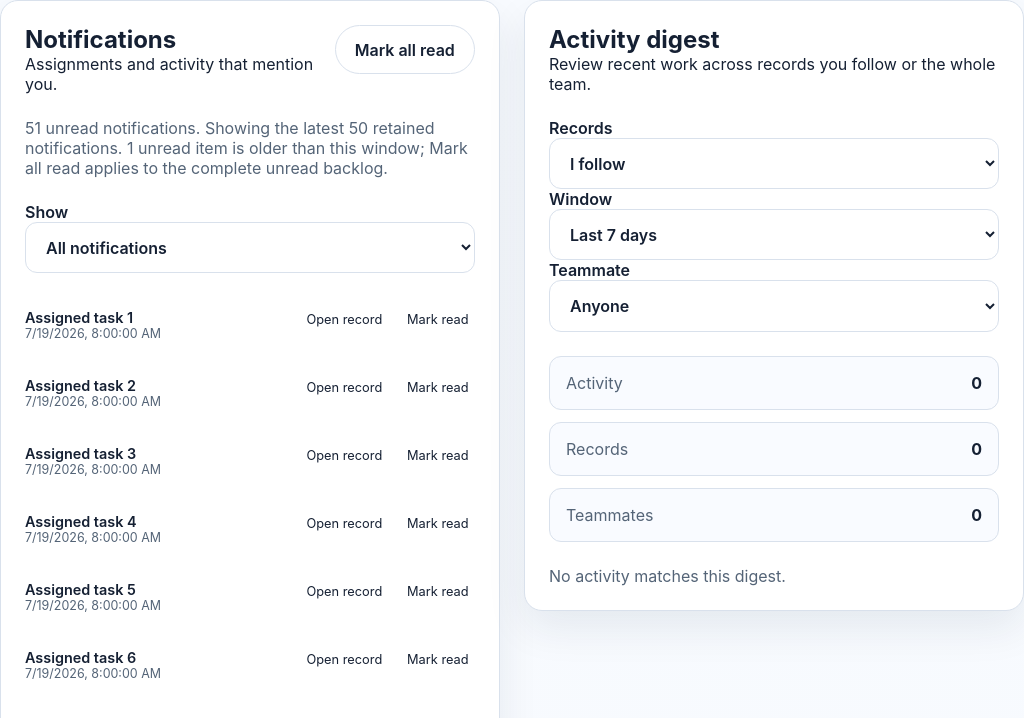
Test: notifications collaboration route › discloses the fixed latest window and marks the complete unread backlog
The width and height of the screenshot is (1024, 718).
Expected: the text "51 unread notifications" shows "Showing the latest 50 retained notifications.", [25,118,434,158]
Expected: the text "1 unread item is older than this window" is shown, [25,138,468,178]
Click the button "Mark all read".
click(405, 50)  # box [334,25,475,74]
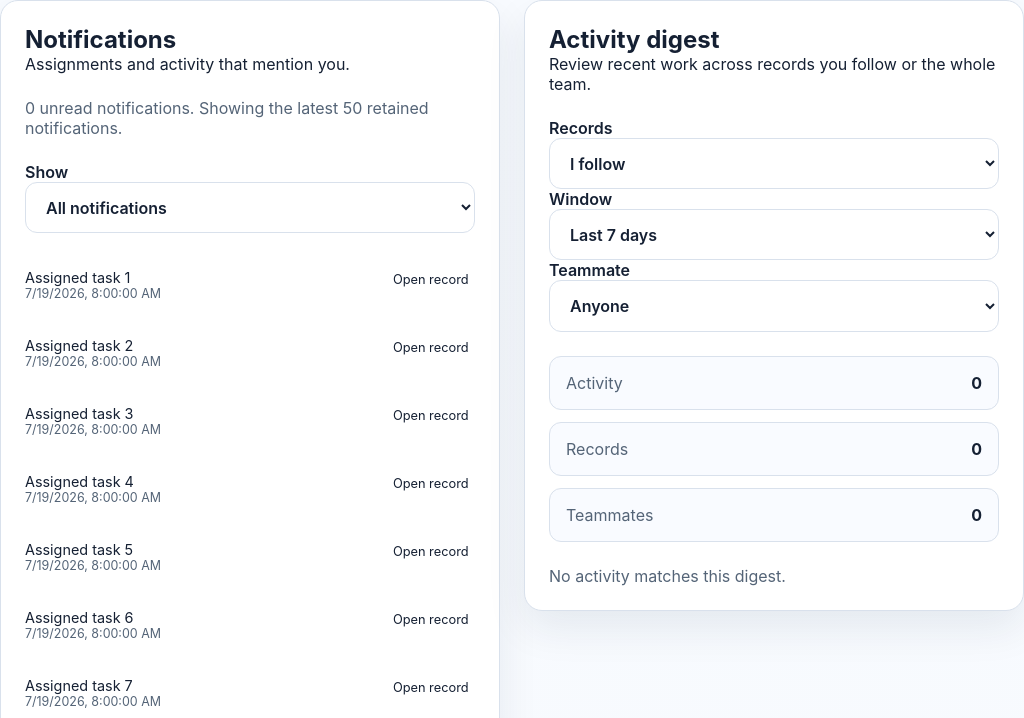
Expected: the text "0 unread notifications" is shown, [25,98,194,118]
